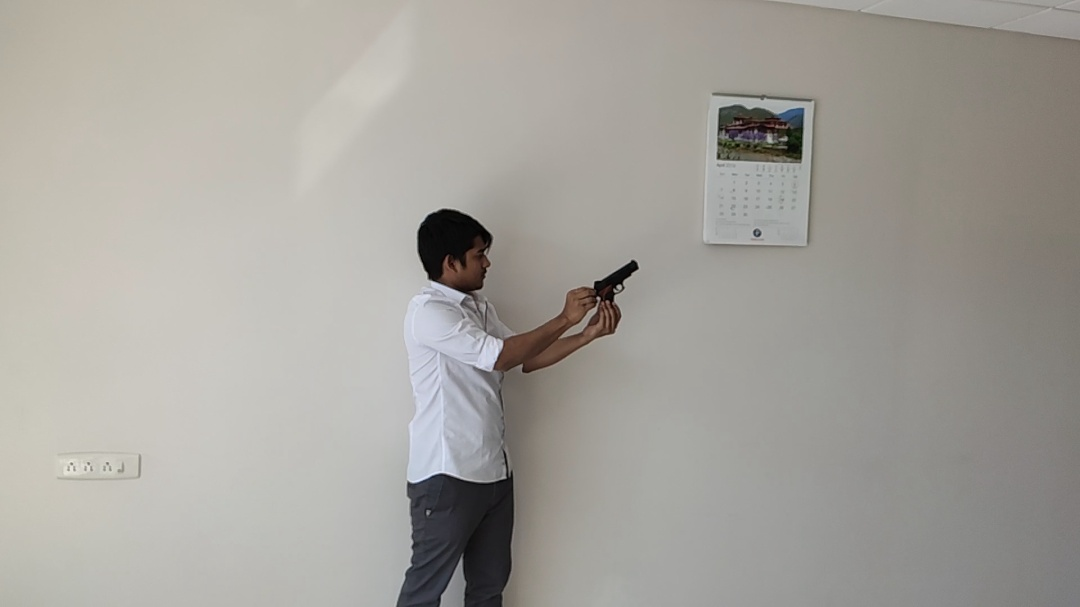gun: (593, 258, 640, 300)
